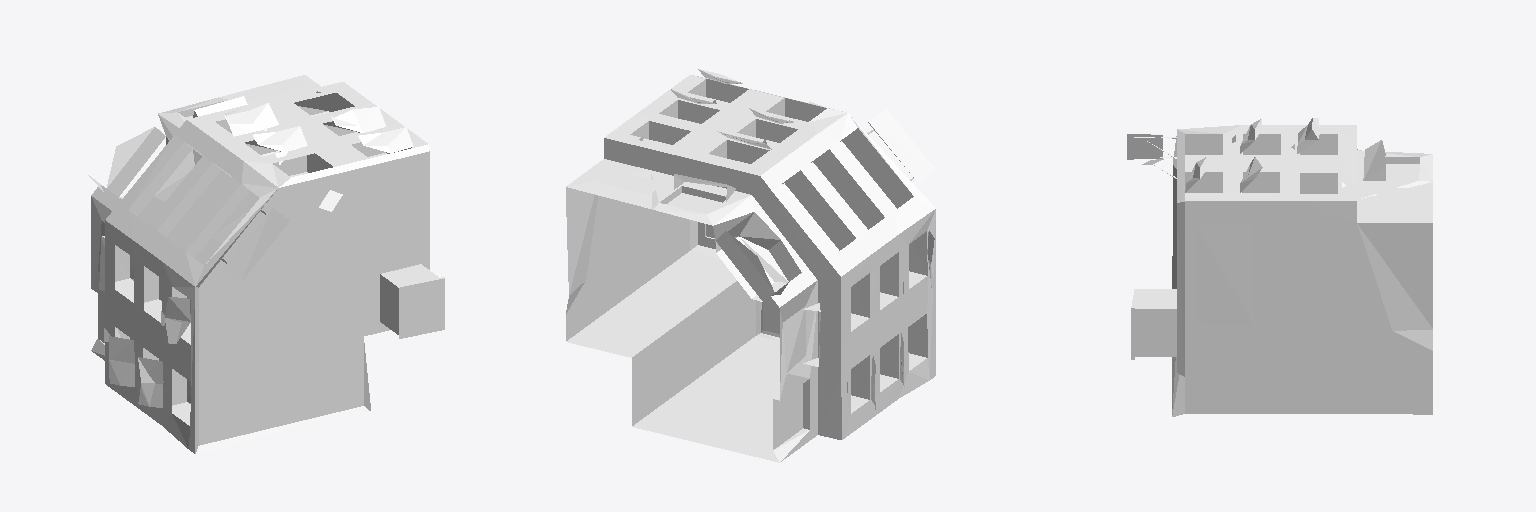
Rendered from house3LOD2.obj.
3 views of the same model, side by side, from view 1: azimuth 30°, elevation 25°; view 2: azimuth 150°, elevation 25°; view 3: azimuth 270°, elevation 25° (orthographic).
Visible parts, largest first — view 1: house3.001_LOD1.001_LOD1.001_LOD1.001_LOD1.001_LOD1; view 2: house3.001_LOD1.001_LOD1.001_LOD1.001_LOD1.001_LOD1; view 3: house3.001_LOD1.001_LOD1.001_LOD1.001_LOD1.001_LOD1.
Boxes of the visible parts, x1,y1,x2,y2 form: house3.001_LOD1.001_LOD1.001_LOD1.001_LOD1.001_LOD1: [88, 75, 444, 454]; house3.001_LOD1.001_LOD1.001_LOD1.001_LOD1.001_LOD1: [566, 69, 935, 462]; house3.001_LOD1.001_LOD1.001_LOD1.001_LOD1.001_LOD1: [1127, 118, 1432, 416].
Size of the model in its own units: 15.56 by 15.38 by 16.23.